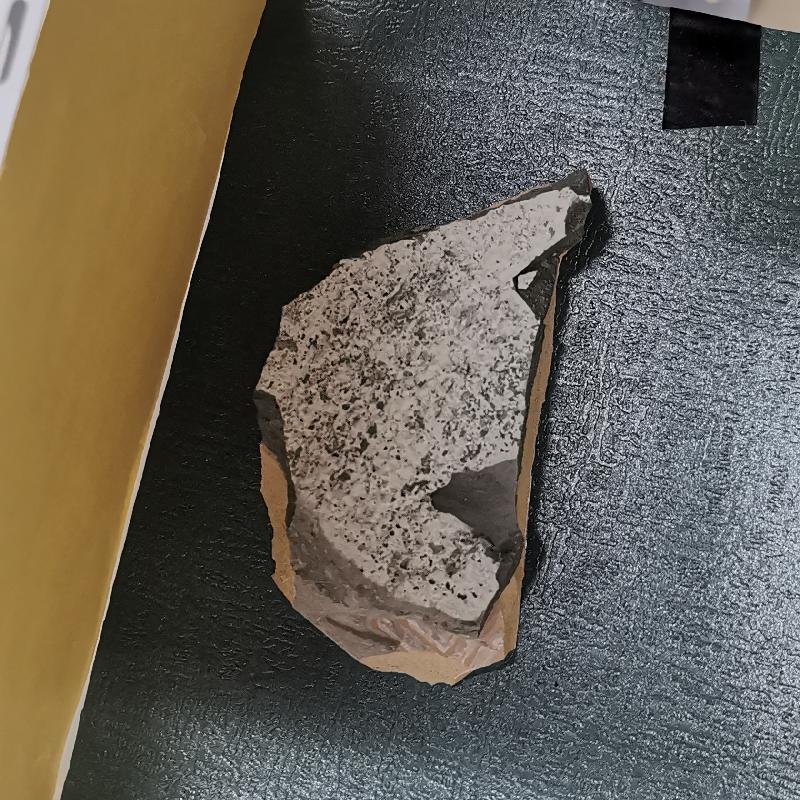tile: (254, 164, 609, 689)
